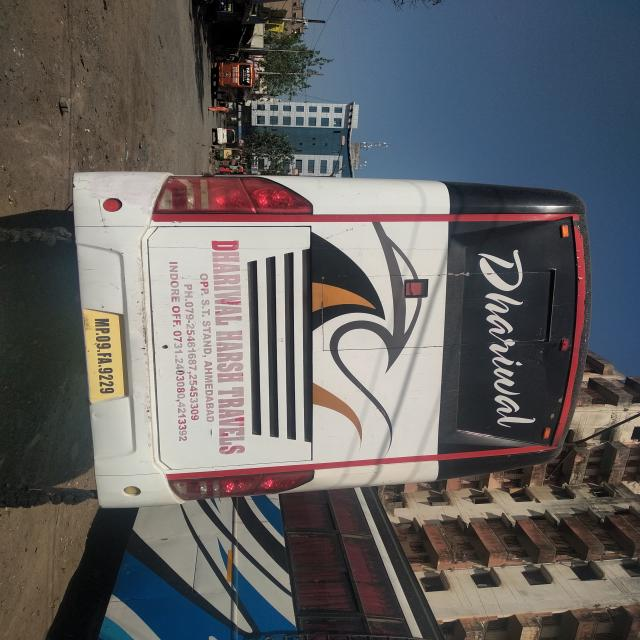Bus: (73, 172, 590, 508)
